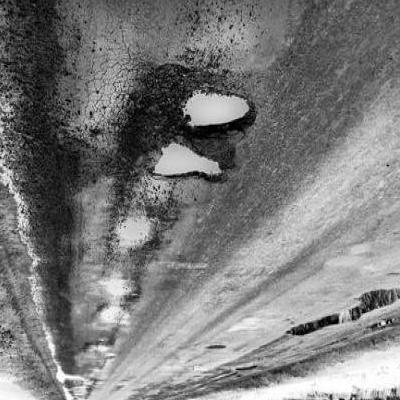pothole: (169, 81, 262, 139), (100, 206, 169, 266), (145, 143, 226, 186)
